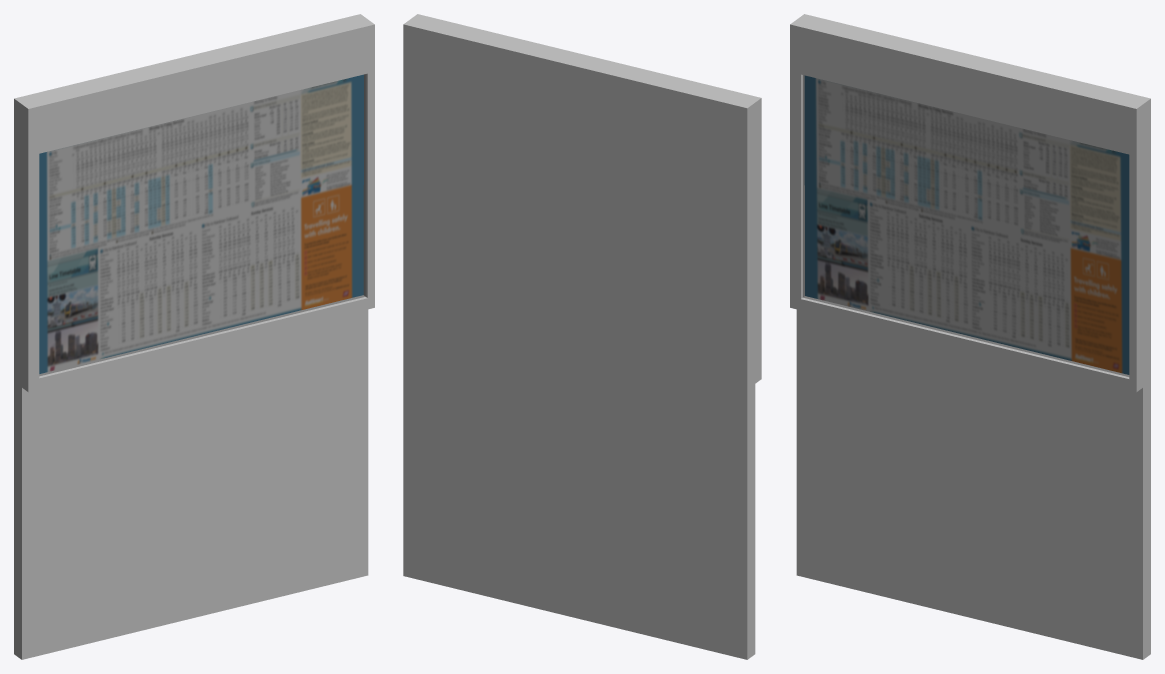
File: Sign_Information.fbx
3 renders of one model, left to right at view 1: azimuth 30°, elevation 25°; view 2: azimuth 150°, elevation 25°; view 3: azimuth 330°, elevation 25°, orthographic.
Visible parts, largest first — view 1: Sign_Information; view 2: Sign_Information; view 3: Sign_Information.
Part boxes in pixels (x1,y1,x2,y2): Sign_Information: (14, 14, 374, 659); Sign_Information: (403, 14, 761, 659); Sign_Information: (790, 14, 1150, 659).
Size of the model in its own units: 1.28 by 1.96 by 0.0916.
